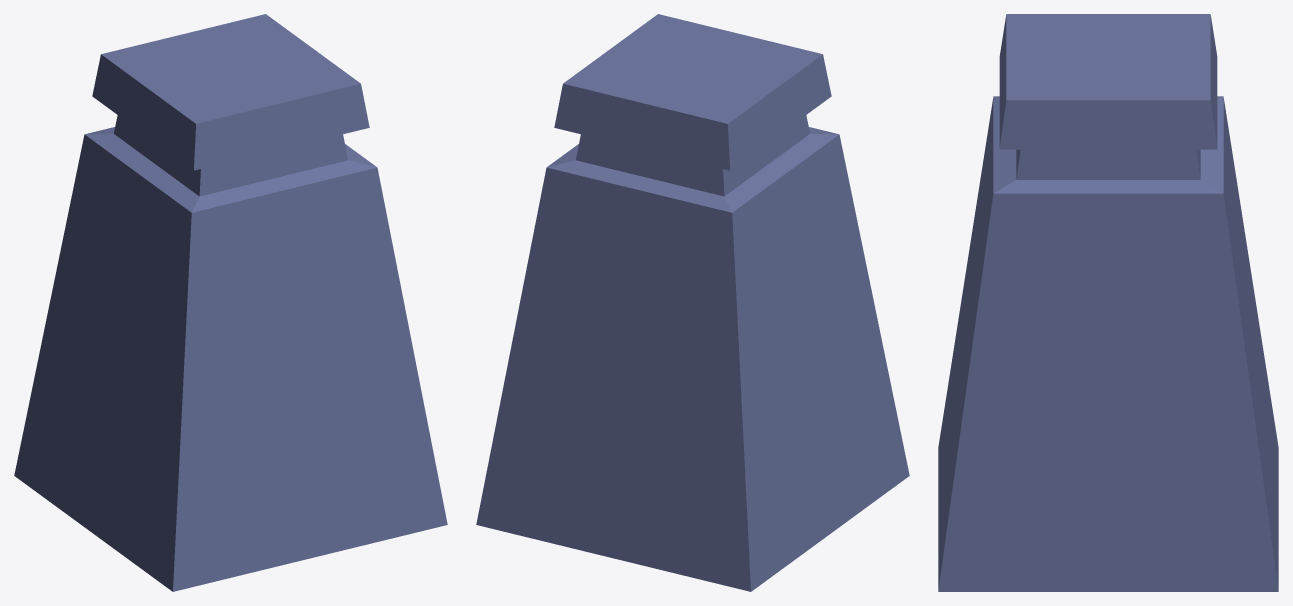
The model's file is column_small_2_1.fbx.
3 renders of one model, left to right at view 1: azimuth 30°, elevation 25°; view 2: azimuth 150°, elevation 25°; view 3: azimuth 270°, elevation 25°, orthographic. The views are drawn at different scales.
Parts seen in each view (by area): view 1: column_small_2_1; view 2: column_small_2_1; view 3: column_small_2_1.
Part boxes in pixels (x1=…): column_small_2_1: x1=14, y1=14, x2=447, y2=591; column_small_2_1: x1=476, y1=14, x2=909, y2=591; column_small_2_1: x1=938, y1=14, x2=1278, y2=591.
Bounding box in the file's own units: 2 × 3 × 2.
